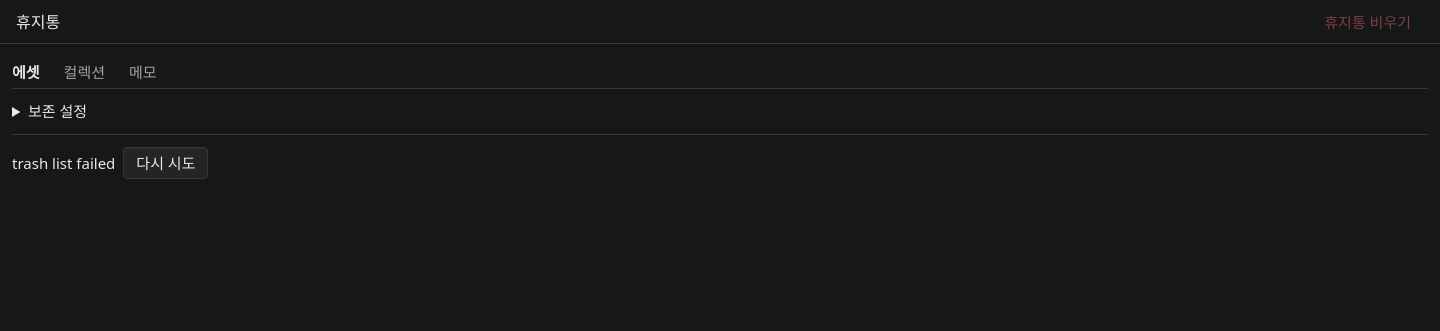
retries after listing trash fails while policy loading is still pending
Click the heading "보존 설정": {"x": 57, "y": 111} x1=28 y1=101 x2=87 y2=121
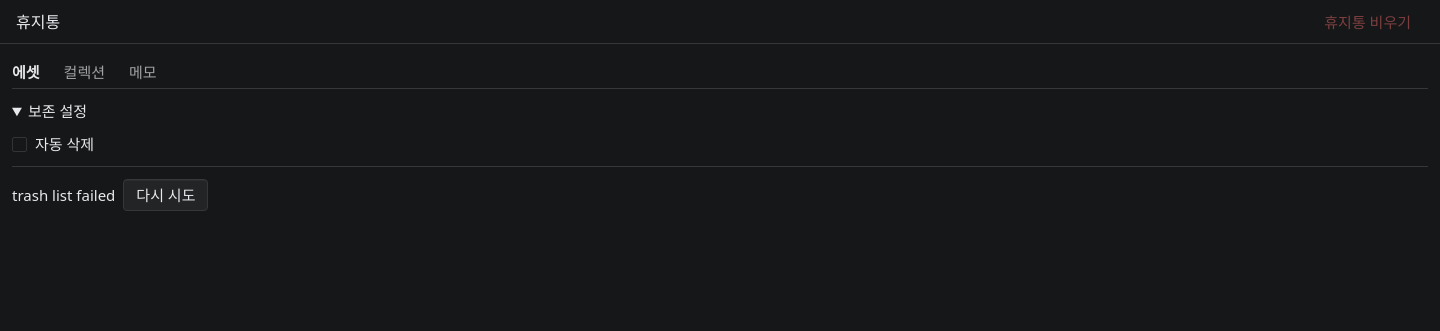
Expected: the text "trash list failed" is shown, x1=12 y1=185 x2=115 y2=205
Click the button "다시 시도": {"x": 166, "y": 195} x1=123 y1=179 x2=208 y2=211
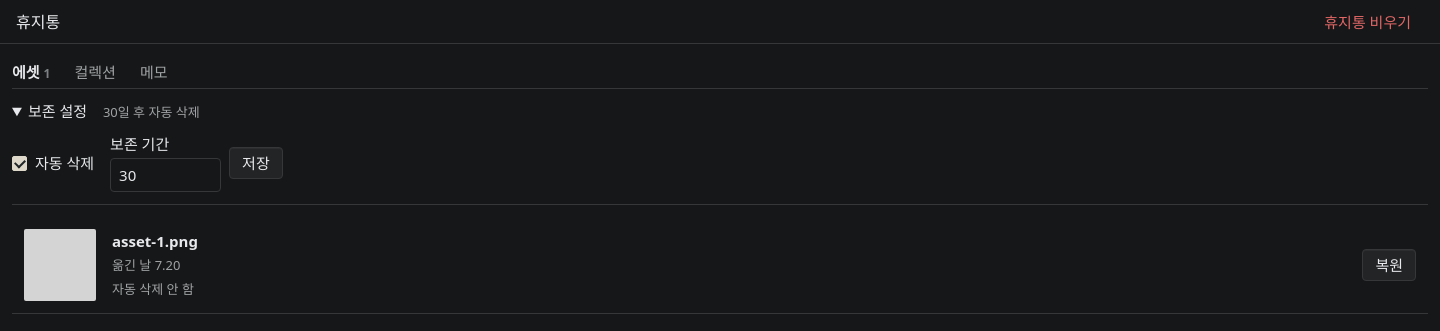
Now the text "asset-1.png" is shown, box x1=112 y1=231 x2=198 y2=251
